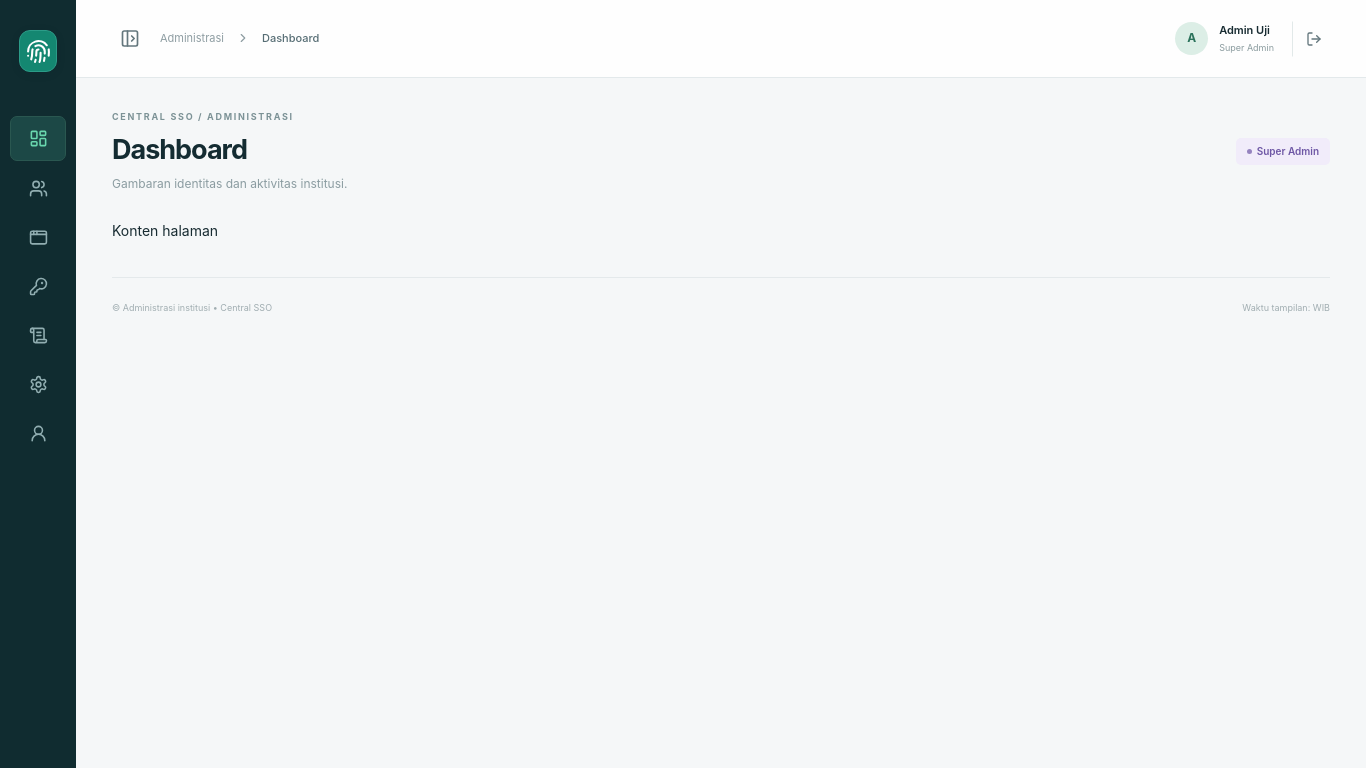
Test case: stored sidebar preference survives remount and storage failure never breaks the control
What coordinates should you click on to do the following:
click the button named "Perluas sidebar"
I would click on:
 (130, 38)
Its box is [112,20,148,57].
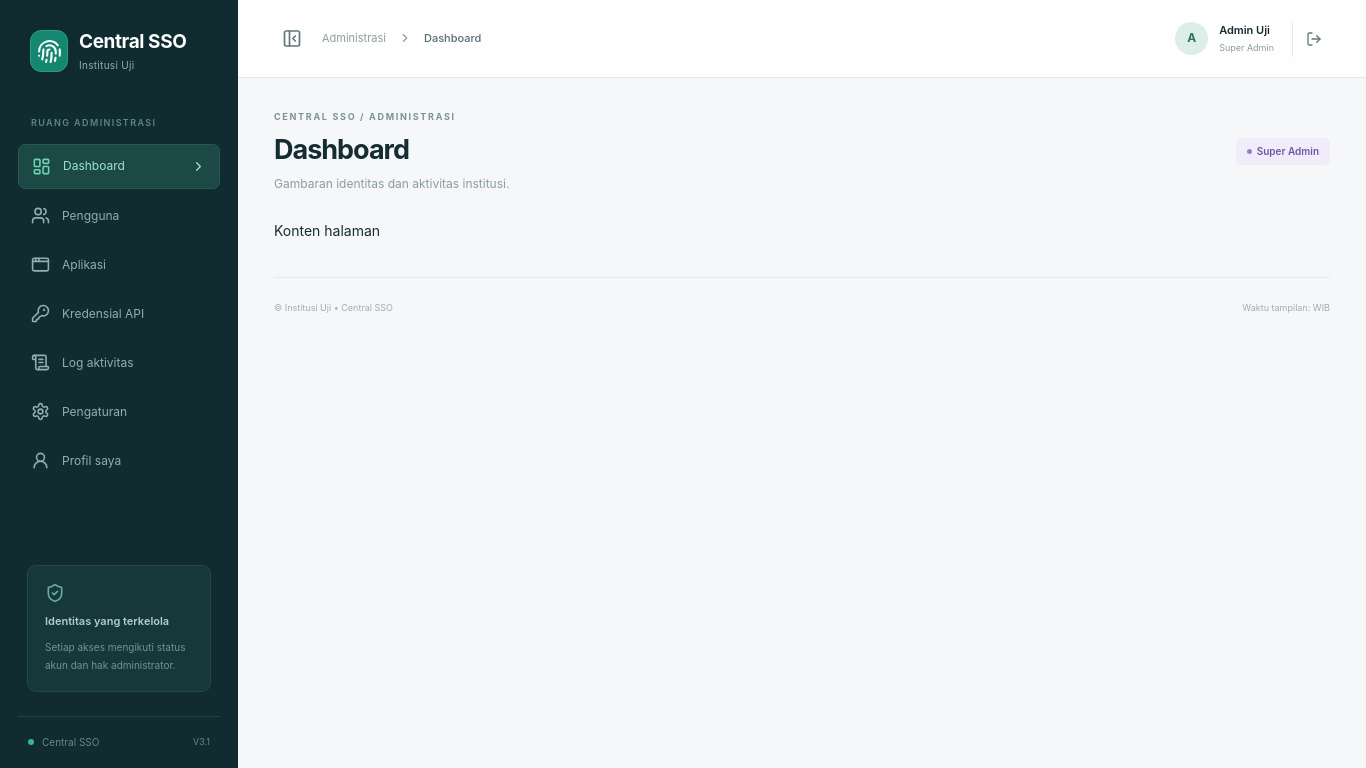
Expected: the button named "Ciutkan sidebar" is shown, [274,20,310,57]
